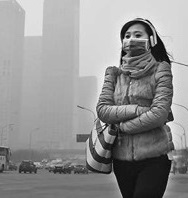person: (86, 17, 176, 198)
